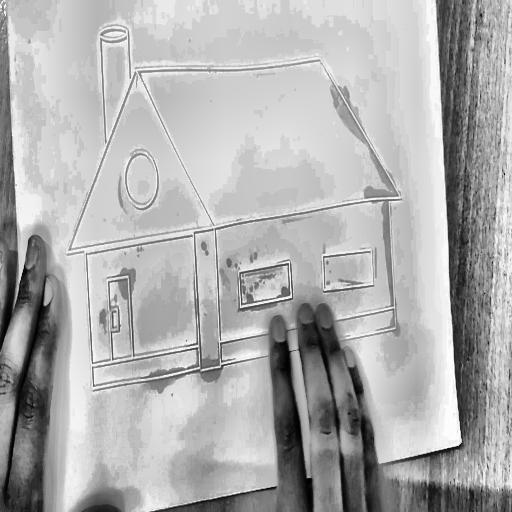bottom_right: (456, 434, 465, 450)
house: (41, 2, 431, 423)
